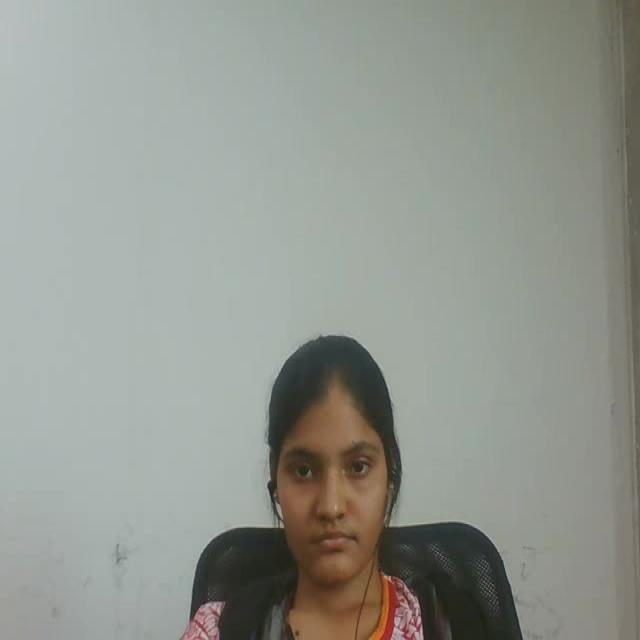Engaged: (238, 318, 414, 602)
